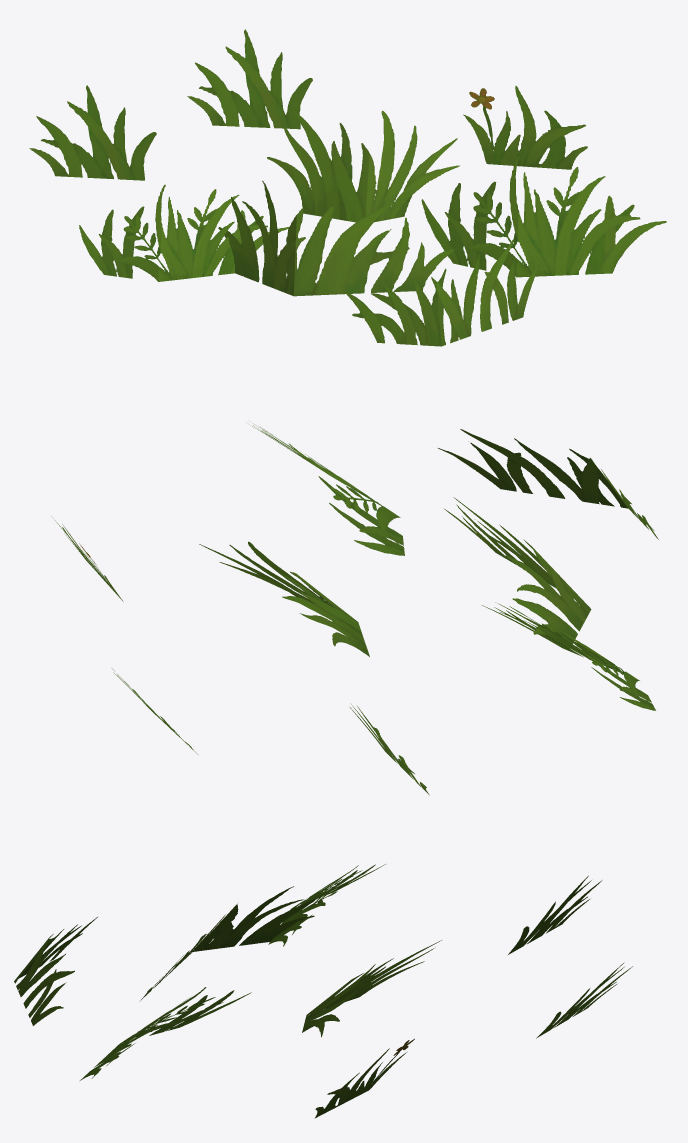
The model's file is grass_05.FBX.
The picture shows the model from 3 angles, top to bottom: view 1: azimuth 30°, elevation 25°; view 2: azimuth 150°, elevation 25°; view 3: azimuth 270°, elevation 25°; orthographic projection. The views are drawn at different scales.
Parts seen in each view (by area): view 1: 对象002; view 2: 对象002; view 3: 对象002.
Boxes of the visible parts, <box> form: 对象002: <box>29,29,666,346</box>; 对象002: <box>52,424,658,795</box>; 对象002: <box>14,864,632,1118</box>.
Size of the model in its own units: 1.88 by 0.276 by 2.07.
1 material, 1 textured.
